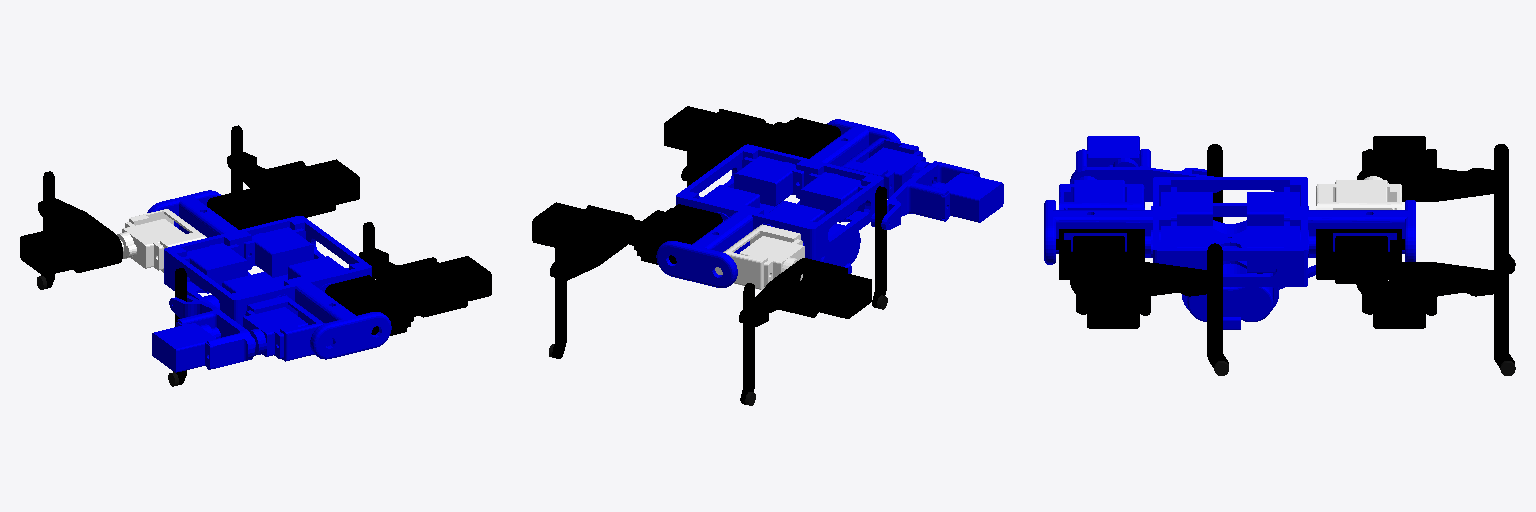
robot.urdf — quadruped_robot:
<?xml version="1.0" encoding="utf-8"?>
<!-- This URDF was automatically created by SolidWorks to URDF Exporter! Originally created by [author] ([email redacted]) 
     Commit Version: 1.6.0-1-g15f4949  Build Version: 1.6.7594.29634
     For more information, please see http://wiki.ros.org/sw_urdf_exporter -->
<robot
  name="quadruped_robot">
  <link
    name="qr_link0">
    <inertial>
      <origin
        xyz="-1.20157099267962E-17 -1.91940711676074E-17 -0.00792400927233343"
        rpy="0 0 0" />
      <mass
        value="0.113278669277608" />
      <inertia
        ixx="0.000106411692170112"
        ixy="5.41070124900122E-22"
        ixz="1.18038034853776E-21"
        iyy="3.32526369178412E-05"
        iyz="3.33163301568769E-21"
        izz="0.000134182063446786" />
    </inertial>
    <visual>
      <origin
        xyz="0 0 0"
        rpy="0 0 0" />
      <geometry>
        <mesh
          filename="package://quadruped_robot/meshes/qr_link0.STL" />
      </geometry>
      <material
        name="">
        <color
          rgba="0 0 1 1" />
      </material>
    </visual>
    <collision>
      <origin
        xyz="0 0 0"
        rpy="0 0 0" />
      <geometry>
        <mesh
          filename="package://quadruped_robot/meshes/qr_link0.STL" />
      </geometry>
    </collision>
  </link>
  <link
    name="qr_fl_link1">
    <inertial>
      <origin
        xyz="0.0145827808973165 6.439012212648E-05 -0.000321132201444621"
        rpy="0 0 0" />
      <mass
        value="0.0115266360856749" />
      <inertia
        ixx="1.40173854300565E-06"
        ixy="5.89034615739042E-08"
        ixz="6.8023620380515E-09"
        iyy="7.9301620576998E-07"
        iyz="-1.63948551300763E-08"
        izz="1.82247054491638E-06" />
    </inertial>
    <visual>
      <origin
        xyz="0 0 0"
        rpy="0 0 0" />
      <geometry>
        <mesh
          filename="package://quadruped_robot/meshes/qr_fl_link1.STL" />
      </geometry>
      <material
        name="">
        <color
          rgba="0 0 0 1" />
      </material>
    </visual>
    <collision>
      <origin
        xyz="0 0 0"
        rpy="0 0 0" />
      <geometry>
        <mesh
          filename="package://quadruped_robot/meshes/qr_fl_link1.STL" />
      </geometry>
    </collision>
  </link>
  <joint
    name="qr_fl_link1_joint"
    type="revolute">
    <origin
      xyz="0.012475 -0.05545 0"
      rpy="0 0 0" />
    <parent
      link="qr_link0" />
    <child
      link="qr_fl_link1" />
    <axis
      xyz="0 1 0" />
    <limit
      lower="0"
      upper="0"
      effort="0"
      velocity="0" />
  </joint>
  <link
    name="qr_fl_link2">
    <inertial>
      <origin
        xyz="0.0155498713616467 0.0149071616129032 4.1098563788311E-09"
        rpy="0 0 0" />
      <mass
        value="0.0122144260462953" />
      <inertia
        ixx="2.07409010062991E-06"
        ixy="1.71055225514763E-07"
        ixz="-1.93847781922793E-13"
        iyy="7.49373217275002E-07"
        iyz="6.00061570972654E-13"
        izz="2.48725687156748E-06" />
    </inertial>
    <visual>
      <origin
        xyz="0 0 0"
        rpy="0 0 0" />
      <geometry>
        <mesh
          filename="package://quadruped_robot/meshes/qr_fl_link2.STL" />
      </geometry>
      <material
        name="">
        <color
          rgba="0 0 0 1" />
      </material>
    </visual>
    <collision>
      <origin
        xyz="0 0 0"
        rpy="0 0 0" />
      <geometry>
        <mesh
          filename="package://quadruped_robot/meshes/qr_fl_link2.STL" />
      </geometry>
    </collision>
  </link>
  <joint
    name="qr_fl_link2_joint"
    type="revolute">
    <origin
      xyz="0.03645 -0.00615 0"
      rpy="0 0 0" />
    <parent
      link="qr_fl_link1" />
    <child
      link="qr_fl_link2" />
    <axis
      xyz="1 0 0" />
    <limit
      lower="0"
      upper="0"
      effort="0"
      velocity="0" />
  </joint>
  <link
    name="qr_fl_link3">
    <inertial>
      <origin
        xyz="-0.000324999999999985 0.00026160094761418 -0.0132084566072264"
        rpy="0 0 0" />
      <mass
        value="0.0010736396629226" />
      <inertia
        ixx="3.25512125255747E-07"
        ixy="1.6391874387632E-24"
        ixz="1.9937204373129E-22"
        iyy="3.21758329283348E-07"
        iyz="7.43498918658266E-09"
        izz="5.05826816285072E-09" />
    </inertial>
    <visual>
      <origin
        xyz="0 0 0"
        rpy="0 0 0" />
      <geometry>
        <mesh
          filename="package://quadruped_robot/meshes/qr_fl_link3.STL" />
      </geometry>
      <material
        name="">
        <color
          rgba="0 0 0 1" />
      </material>
    </visual>
    <collision>
      <origin
        xyz="0 0 0"
        rpy="0 0 0" />
      <geometry>
        <mesh
          filename="package://quadruped_robot/meshes/qr_fl_link3.STL" />
      </geometry>
    </collision>
  </link>
  <joint
    name="qr_fl_link3_joint"
    type="revolute">
    <origin
      xyz="0.002175 0.055 0"
      rpy="0 0 0" />
    <parent
      link="qr_fl_link2" />
    <child
      link="qr_fl_link3" />
    <axis
      xyz="1 0 0" />
    <limit
      lower="0"
      upper="0"
      effort="0"
      velocity="0" />
  </joint>
  <link
    name="qr_fl_link4">
    <inertial>
      <origin
        xyz="0.00235 4.77048955893622E-18 6.93889390390723E-18"
        rpy="0 0 0" />
      <mass
        value="6.63661448070844E-05" />
      <inertia
        ixx="3.50496202262415E-10"
        ixy="2.667200621103E-25"
        ixz="9.70826730698041E-26"
        iyy="1.97370149400236E-10"
        iyz="-1.29246970711411E-27"
        izz="1.97370149400236E-10" />
    </inertial>
    <visual>
      <origin
        xyz="0 0 0"
        rpy="0 0 0" />
      <geometry>
        <mesh
          filename="package://quadruped_robot/meshes/qr_fl_link4.STL" />
      </geometry>
      <material
        name="">
        <color
          rgba="0.101960784313725 0.101960784313725 0.101960784313725 1" />
      </material>
    </visual>
    <collision>
      <origin
        xyz="0 0 0"
        rpy="0 0 0" />
      <geometry>
        <mesh
          filename="package://quadruped_robot/meshes/qr_fl_link4.STL" />
      </geometry>
    </collision>
  </link>
  <joint
    name="qr_fl_link4_joint"
    type="fixed">
    <origin
      xyz="-0.000325 0.0028868 -0.04"
      rpy="0 0 0" />
    <parent
      link="qr_fl_link3" />
    <child
      link="qr_fl_link4" />
    <axis
      xyz="0 0 0" />
  </joint>
  <link
    name="qr_fr_link1">
    <inertial>
      <origin
        xyz="-0.0145827808973165 6.43901221264592E-05 -0.000321165040133154"
        rpy="0 0 0" />
      <mass
        value="0.0115266360856749" />
      <inertia
        ixx="1.40173790096394E-06"
        ixy="-5.89034615739026E-08"
        ixz="-6.8030409890926E-09"
        iyy="7.9301556372827E-07"
        iyz="-1.64004239999686E-08"
        izz="1.82247054491638E-06" />
    </inertial>
    <visual>
      <origin
        xyz="0 0 0"
        rpy="0 0 0" />
      <geometry>
        <mesh
          filename="package://quadruped_robot/meshes/qr_fr_link1.STL" />
      </geometry>
      <material
        name="">
        <color
          rgba="0 0 1 1" />
      </material>
    </visual>
    <collision>
      <origin
        xyz="0 0 0"
        rpy="0 0 0" />
      <geometry>
        <mesh
          filename="package://quadruped_robot/meshes/qr_fr_link1.STL" />
      </geometry>
    </collision>
  </link>
  <joint
    name="qr_fr_link1_joint"
    type="revolute">
    <origin
      xyz="-0.012475 -0.05545 0"
      rpy="0 0 0" />
    <parent
      link="qr_link0" />
    <child
      link="qr_fr_link1" />
    <axis
      xyz="0 1 0" />
    <limit
      lower="0"
      upper="0"
      effort="0"
      velocity="0" />
  </joint>
  <link
    name="qr_fr_link2">
    <inertial>
      <origin
        xyz="-0.0155498713616467 0.0149071616129031 -4.10985639270889E-09"
        rpy="0 0 0" />
      <mass
        value="0.0122144260462953" />
      <inertia
        ixx="2.07409010062992E-06"
        ixy="-1.71055225514762E-07"
        ixz="-1.93847781631286E-13"
        iyy="7.49373217275002E-07"
        iyz="-6.00061571325335E-13"
        izz="2.48725687156748E-06" />
    </inertial>
    <visual>
      <origin
        xyz="0 0 0"
        rpy="0 0 0" />
      <geometry>
        <mesh
          filename="package://quadruped_robot/meshes/qr_fr_link2.STL" />
      </geometry>
      <material
        name="">
        <color
          rgba="0 0 1 1" />
      </material>
    </visual>
    <collision>
      <origin
        xyz="0 0 0"
        rpy="0 0 0" />
      <geometry>
        <mesh
          filename="package://quadruped_robot/meshes/qr_fr_link2.STL" />
      </geometry>
    </collision>
  </link>
  <joint
    name="qr_fr_link2_joint"
    type="revolute">
    <origin
      xyz="-0.03645 -0.00615000000000003 0"
      rpy="0 0 0" />
    <parent
      link="qr_fr_link1" />
    <child
      link="qr_fr_link2" />
    <axis
      xyz="-1 0 0" />
    <limit
      lower="0"
      upper="0"
      effort="0"
      velocity="0" />
  </joint>
  <link
    name="qr_fr_link3">
    <inertial>
      <origin
        xyz="0.000324999999999992 0.00026160094761421 -0.0132084566072264"
        rpy="0 0 0" />
      <mass
        value="0.0010736396629226" />
      <inertia
        ixx="3.25512125255748E-07"
        ixy="1.22318873134903E-23"
        ixz="-3.75755848620029E-22"
        iyy="3.21758329283348E-07"
        iyz="7.43498918658268E-09"
        izz="5.05826816285072E-09" />
    </inertial>
    <visual>
      <origin
        xyz="0 0 0"
        rpy="0 0 0" />
      <geometry>
        <mesh
          filename="package://quadruped_robot/meshes/qr_fr_link3.STL" />
      </geometry>
      <material
        name="">
        <color
          rgba="0 0 0 1" />
      </material>
    </visual>
    <collision>
      <origin
        xyz="0 0 0"
        rpy="0 0 0" />
      <geometry>
        <mesh
          filename="package://quadruped_robot/meshes/qr_fr_link3.STL" />
      </geometry>
    </collision>
  </link>
  <joint
    name="qr_fr_link3_joint"
    type="revolute">
    <origin
      xyz="-0.002175 0.055 0"
      rpy="0 0 0" />
    <parent
      link="qr_fr_link2" />
    <child
      link="qr_fr_link3" />
    <axis
      xyz="-1 0 0" />
    <limit
      lower="0"
      upper="0"
      effort="0"
      velocity="0" />
  </joint>
  <link
    name="qr_fr_link4">
    <inertial>
      <origin
        xyz="-0.00235000000000001 -8.89045781438114E-17 -4.85722573273506E-17"
        rpy="0 0 0" />
      <mass
        value="6.63661448070845E-05" />
      <inertia
        ixx="3.50496202262415E-10"
        ixy="2.67880422808151E-25"
        ixz="1.18522254564732E-25"
        iyy="1.97370149400236E-10"
        iyz="-8.61646471409404E-28"
        izz="1.97370149400236E-10" />
    </inertial>
    <visual>
      <origin
        xyz="0 0 0"
        rpy="0 0 0" />
      <geometry>
        <mesh
          filename="package://quadruped_robot/meshes/qr_fr_link4.STL" />
      </geometry>
      <material
        name="">
        <color
          rgba="0.101960784313725 0.101960784313725 0.101960784313725 1" />
      </material>
    </visual>
    <collision>
      <origin
        xyz="0 0 0"
        rpy="0 0 0" />
      <geometry>
        <mesh
          filename="package://quadruped_robot/meshes/qr_fr_link4.STL" />
      </geometry>
    </collision>
  </link>
  <joint
    name="qr_fr_link4_joint"
    type="fixed">
    <origin
      xyz="0.000325 0.0028868 -0.04"
      rpy="0 0 0" />
    <parent
      link="qr_fr_link3" />
    <child
      link="qr_fr_link4" />
    <axis
      xyz="0 0 0" />
  </joint>
  <link
    name="qr_bl_link1">
    <inertial>
      <origin
        xyz="0.0145827808973165 -6.43901221264731E-05 -0.000321165040133173"
        rpy="0 0 0" />
      <mass
        value="0.0115266360856749" />
      <inertia
        ixx="1.40173790096395E-06"
        ixy="-5.89034615739038E-08"
        ixz="6.80304098909223E-09"
        iyy="7.9301556372827E-07"
        iyz="1.64004239999677E-08"
        izz="1.82247054491638E-06" />
    </inertial>
    <visual>
      <origin
        xyz="0 0 0"
        rpy="0 0 0" />
      <geometry>
        <mesh
          filename="package://quadruped_robot/meshes/qr_bl_link1.STL" />
      </geometry>
      <material
        name="">
        <color
          rgba="0 0 0 1" />
      </material>
    </visual>
    <collision>
      <origin
        xyz="0 0 0"
        rpy="0 0 0" />
      <geometry>
        <mesh
          filename="package://quadruped_robot/meshes/qr_bl_link1.STL" />
      </geometry>
    </collision>
  </link>
  <joint
    name="qr_bl_link1_joint"
    type="revolute">
    <origin
      xyz="0.012475 0.05545 0"
      rpy="0 0 0" />
    <parent
      link="qr_link0" />
    <child
      link="qr_bl_link1" />
    <axis
      xyz="0 -1 0" />
    <limit
      lower="0"
      upper="0"
      effort="0"
      velocity="0" />
  </joint>
  <link
    name="qr_bl_link2">
    <inertial>
      <origin
        xyz="0.0155498713616467 0.0149071616129032 4.10985643434225E-09"
        rpy="0 0 0" />
      <mass
        value="0.0122144260462953" />
      <inertia
        ixx="2.07409010062992E-06"
        ixy="1.71055225514764E-07"
        ixz="-1.93847783314236E-13"
        iyy="7.49373217275003E-07"
        iyz="6.00061571805507E-13"
        izz="2.48725687156749E-06" />
    </inertial>
    <visual>
      <origin
        xyz="0 0 0"
        rpy="0 0 0" />
      <geometry>
        <mesh
          filename="package://quadruped_robot/meshes/qr_bl_link2.STL" />
      </geometry>
      <material
        name="">
        <color
          rgba="0 0 0 1" />
      </material>
    </visual>
    <collision>
      <origin
        xyz="0 0 0"
        rpy="0 0 0" />
      <geometry>
        <mesh
          filename="package://quadruped_robot/meshes/qr_bl_link2.STL" />
      </geometry>
    </collision>
  </link>
  <joint
    name="qr_bl_link2_joint"
    type="revolute">
    <origin
      xyz="0.03645 0.00615000000000004 0"
      rpy="0 0 0" />
    <parent
      link="qr_bl_link1" />
    <child
      link="qr_bl_link2" />
    <axis
      xyz="1 0 0" />
    <limit
      lower="0"
      upper="0"
      effort="0"
      velocity="0" />
  </joint>
  <link
    name="qr_bl_link3">
    <inertial>
      <origin
        xyz="-0.000325 0.0002616 -0.013208"
        rpy="0 0 0" />
      <mass
        value="0.0010736" />
      <inertia
        ixx="3.2551E-07"
        ixy="-1.394E-23"
        ixz="8.8795E-22"
        iyy="3.2176E-07"
        iyz="7.435E-09"
        izz="5.0583E-09" />
    </inertial>
    <visual>
      <origin
        xyz="0 0 0"
        rpy="0 0 0" />
      <geometry>
        <mesh
          filename="package://quadruped_robot/meshes/qr_bl_link3.STL" />
      </geometry>
      <material
        name="">
        <color
          rgba="0 0 0 1" />
      </material>
    </visual>
    <collision>
      <origin
        xyz="0 0 0"
        rpy="0 0 0" />
      <geometry>
        <mesh
          filename="package://quadruped_robot/meshes/qr_bl_link3.STL" />
      </geometry>
    </collision>
  </link>
  <joint
    name="qr_bl_link3_joint"
    type="revolute">
    <origin
      xyz="0.00217500000000011 0.055 0"
      rpy="0 0 0" />
    <parent
      link="qr_bl_link2" />
    <child
      link="qr_bl_link3" />
    <axis
      xyz="1 0 0" />
    <limit
      lower="0"
      upper="0"
      effort="0"
      velocity="0" />
  </joint>
  <link
    name="qr_bl_link4">
    <inertial>
      <origin
        xyz="0.00235 8.3267E-17 1.8041E-16"
        rpy="0 0 0" />
      <mass
        value="6.6366E-05" />
      <inertia
        ixx="3.505E-10"
        ixy="3.372E-25"
        ixz="4.1291E-25"
        iyy="1.9737E-10"
        iyz="-8.6165E-27"
        izz="1.9737E-10" />
    </inertial>
    <visual>
      <origin
        xyz="0 0 0"
        rpy="0 0 0" />
      <geometry>
        <mesh
          filename="package://quadruped_robot/meshes/qr_bl_link4.STL" />
      </geometry>
      <material
        name="">
        <color
          rgba="0.10196 0.10196 0.10196 1" />
      </material>
    </visual>
    <collision>
      <origin
        xyz="0 0 0"
        rpy="0 0 0" />
      <geometry>
        <mesh
          filename="package://quadruped_robot/meshes/qr_bl_link4.STL" />
      </geometry>
    </collision>
  </link>
  <joint
    name="qr_bl_link4_joint"
    type="fixed">
    <origin
      xyz="-0.000325 0.0028868 -0.04"
      rpy="0 0 0" />
    <parent
      link="qr_bl_link3" />
    <child
      link="qr_bl_link4" />
    <axis
      xyz="0 0 0" />
  </joint>
  <link
    name="qr_br_link1">
    <inertial>
      <origin
        xyz="0 0 0"
        rpy="0 0 0" />
      <mass
        value="0" />
      <inertia
        ixx="0"
        ixy="0"
        ixz="0"
        iyy="0"
        iyz="0"
        izz="0" />
    </inertial>
    <visual>
      <origin
        xyz="0 0 0"
        rpy="0 0 0" />
      <geometry>
        <mesh
          filename="package://quadruped_robot/meshes/qr_br_link1.STL" />
      </geometry>
      <material
        name="">
        <color
          rgba="1 1 1 1" />
      </material>
    </visual>
    <collision>
      <origin
        xyz="0 0 0"
        rpy="0 0 0" />
      <geometry>
        <mesh
          filename="package://quadruped_robot/meshes/qr_br_link1.STL" />
      </geometry>
    </collision>
  </link>
  <joint
    name="qr_br_link1_joint"
    type="revolute">
    <origin
      xyz="-0.012475 0.0554499999999999 0"
      rpy="0 0 0" />
    <parent
      link="qr_link0" />
    <child
      link="qr_br_link1" />
    <axis
      xyz="0 -1 0" />
    <limit
      lower="0"
      upper="0"
      effort="0"
      velocity="0" />
  </joint>
  <link
    name="qr_br_link2">
    <inertial>
      <origin
        xyz="-0.0155498713616467 0.0149071616129032 -4.10985640138251E-09"
        rpy="0 0 0" />
      <mass
        value="0.0122144260462953" />
      <inertia
        ixx="2.07409010062991E-06"
        ixy="-1.71055225514763E-07"
        ixz="-1.9384778223159E-13"
        iyy="7.49373217275002E-07"
        iyz="-6.0006157066614E-13"
        izz="2.48725687156748E-06" />
    </inertial>
    <visual>
      <origin
        xyz="0 0 0"
        rpy="0 0 0" />
      <geometry>
        <mesh
          filename="package://quadruped_robot/meshes/qr_br_link2.STL" />
      </geometry>
      <material
        name="">
        <color
          rgba="0 0 0 1" />
      </material>
    </visual>
    <collision>
      <origin
        xyz="0 0 0"
        rpy="0 0 0" />
      <geometry>
        <mesh
          filename="package://quadruped_robot/meshes/qr_br_link2.STL" />
      </geometry>
    </collision>
  </link>
  <joint
    name="qr_br_link2_joint"
    type="revolute">
    <origin
      xyz="-0.03645 0.00615000000000002 0"
      rpy="0 0 0" />
    <parent
      link="qr_br_link1" />
    <child
      link="qr_br_link2" />
    <axis
      xyz="-1 0 0" />
    <limit
      lower="0"
      upper="0"
      effort="0"
      velocity="0" />
  </joint>
  <link
    name="qr_br_link3">
    <inertial>
      <origin
        xyz="0.000325 0.0002616 -0.013208"
        rpy="0 0 0" />
      <mass
        value="0.0010736" />
      <inertia
        ixx="3.2551E-07"
        ixy="-1.0389E-23"
        ixz="4.4731E-22"
        iyy="3.2176E-07"
        iyz="7.435E-09"
        izz="5.0583E-09" />
    </inertial>
    <visual>
      <origin
        xyz="0 0 0"
        rpy="0 0 0" />
      <geometry>
        <mesh
          filename="package://quadruped_robot/meshes/qr_br_link3.STL" />
      </geometry>
      <material
        name="">
        <color
          rgba="0 0 0 1" />
      </material>
    </visual>
    <collision>
      <origin
        xyz="0 0 0"
        rpy="0 0 0" />
      <geometry>
        <mesh
          filename="package://quadruped_robot/meshes/qr_br_link3.STL" />
      </geometry>
    </collision>
  </link>
  <joint
    name="qr_br_link3_joint"
    type="revolute">
    <origin
      xyz="-0.002175 0.055 0"
      rpy="0 0 0" />
    <parent
      link="qr_br_link2" />
    <child
      link="qr_br_link3" />
    <axis
      xyz="-1 0 0" />
    <limit
      lower="0"
      upper="0"
      effort="0"
      velocity="0" />
  </joint>
  <link
    name="qr_br_link4">
    <inertial>
      <origin
        xyz="-0.00235 -2.7756E-17 6.9389E-18"
        rpy="0 0 0" />
      <mass
        value="6.6366E-05" />
      <inertia
        ixx="3.505E-10"
        ixy="3.3655E-26"
        ixz="2.3482E-25"
        iyy="1.9737E-10"
        iyz="2.3641E-26"
        izz="1.9737E-10" />
    </inertial>
    <visual>
      <origin
        xyz="0 0 0"
        rpy="0 0 0" />
      <geometry>
        <mesh
          filename="package://quadruped_robot/meshes/qr_br_link4.STL" />
      </geometry>
      <material
        name="">
        <color
          rgba="0.10196 0.10196 0.10196 1" />
      </material>
    </visual>
    <collision>
      <origin
        xyz="0 0 0"
        rpy="0 0 0" />
      <geometry>
        <mesh
          filename="package://quadruped_robot/meshes/qr_br_link4.STL" />
      </geometry>
    </collision>
  </link>
  <joint
    name="qr_br_link4_joint"
    type="fixed">
    <origin
      xyz="0.000325 0.0028868 -0.04"
      rpy="0 0 0" />
    <parent
      link="qr_br_link3" />
    <child
      link="qr_br_link4" />
    <axis
      xyz="0 0 0" />
  </joint>
</robot>

--- Facts derived from the render (not from the file) ---
The picture shows the robot from 3 angles, left to right: view 1: azimuth 30°, elevation 25°; view 2: azimuth 150°, elevation 25°; view 3: azimuth 270°, elevation 25°; orthographic projection.
Robot: quadruped_robot — 17 links, 16 joints (12 revolute, 4 fixed); root link qr_link0; default pose: every joint at zero.
Links seen in each view (by area): view 1: qr_link0, qr_br_link2, qr_fr_link2, qr_bl_link2, qr_fl_link2, qr_fr_link1, qr_fl_link1, qr_br_link1, qr_bl_link1, qr_bl_link3; view 2: qr_link0, qr_fr_link2, qr_br_link2, qr_bl_link2, qr_fl_link2, qr_br_link1, qr_bl_link1, qr_fr_link1, qr_fl_link1, qr_bl_link3, qr_br_link3, qr_fr_link3; view 3: qr_link0, qr_bl_link2, qr_fl_link2, qr_br_link2, qr_fr_link2, qr_bl_link1, qr_fl_link1, qr_br_link1, qr_fr_link1, qr_fl_link3, qr_bl_link3, qr_br_link3 (+1 smaller).
Link boxes in pixels (x1,y1,x2,y2): qr_link0: (147,190,391,359); qr_br_link2: (20,198,122,275); qr_fr_link2: (152,295,254,372); qr_bl_link2: (227,152,359,217); qr_fl_link2: (359,248,491,317); qr_fr_link1: (243,296,332,361); qr_fl_link1: (325,275,424,335); qr_br_link1: (117,209,206,272); qr_bl_link1: (207,188,292,229); qr_bl_link3: (231,125,242,192); qr_link0: (656,119,900,287); qr_fr_link2: (871,161,1003,229); qr_br_link2: (739,258,871,326); qr_bl_link2: (532,202,633,280); qr_fl_link2: (664,106,765,181); qr_br_link1: (715,224,804,289); qr_bl_link1: (620,204,722,264); qr_fr_link1: (841,138,933,198); qr_fl_link1: (752,117,840,158); qr_bl_link3: (552,237,566,358); qr_br_link3: (740,283,754,404); qr_fr_link3: (872,186,886,307); qr_link0: (1044,177,1415,329); qr_bl_link2: (1356,262,1508,328); qr_fl_link2: (1070,262,1221,328); qr_br_link2: (1357,136,1508,201); qr_fr_link2: (1070,136,1220,201); qr_bl_link1: (1316,229,1404,283); qr_fl_link1: (1056,229,1144,280); qr_br_link1: (1316,176,1401,209); qr_fr_link1: (1059,176,1144,209); qr_fl_link3: (1207,243,1228,367); qr_bl_link3: (1494,243,1514,367); qr_br_link3: (1494,144,1514,273).
Bounding box of the posed robot: 0.1702 × 0.2027 × 0.0609 m (x, y, z).
17 mesh visuals loaded from 17 distinct referenced files (17 binary STL).